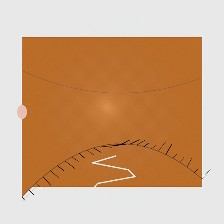foreign_body_visible: (115, 100, 155, 132)
